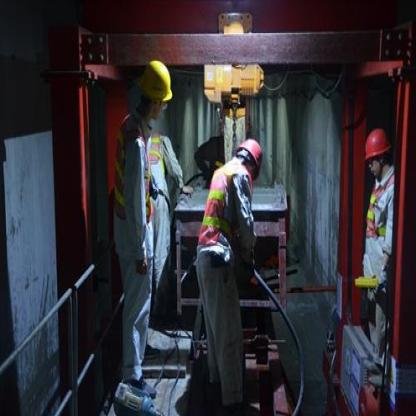helmet: (134, 59, 177, 123), (364, 128, 394, 182), (236, 140, 266, 178)
